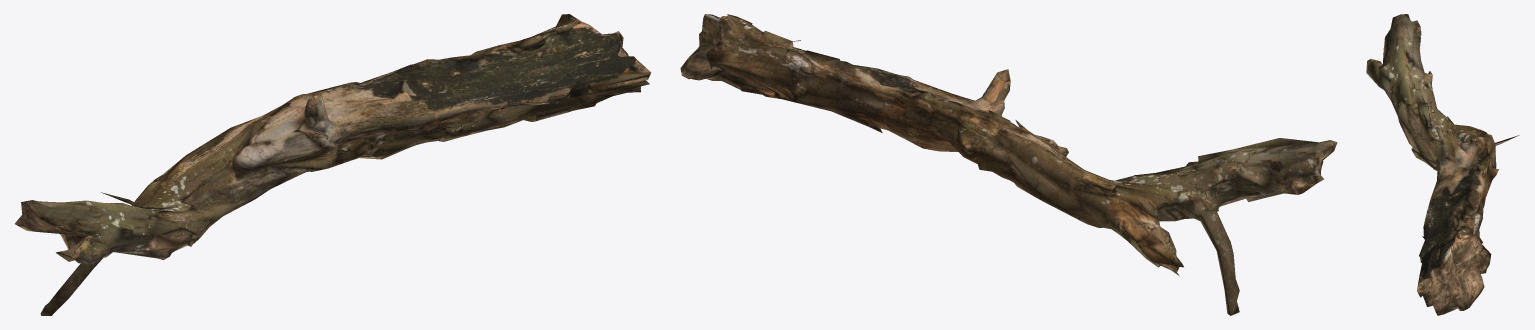
The model's file is drift_b.glb.
3 renders of one model, left to right at view 1: azimuth 30°, elevation 25°; view 2: azimuth 150°, elevation 25°; view 3: azimuth 270°, elevation 25°, orthographic. The views are drawn at different scales.
Visible parts, largest first — view 1: dead_tree_trunk_02; view 2: dead_tree_trunk_02; view 3: dead_tree_trunk_02.
Boxes of the visible parts, x1,y1,x2,y2 form: dead_tree_trunk_02: [15, 14, 651, 315]; dead_tree_trunk_02: [680, 14, 1337, 315]; dead_tree_trunk_02: [1366, 14, 1519, 315].
Bounding box in the file's own units: 4.05 × 1.05 × 1.04.
1 material, 1 textured.
